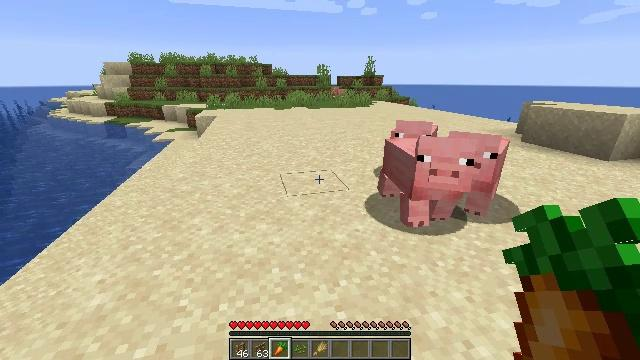pig: (382, 134, 472, 229), (475, 135, 513, 210), (389, 119, 441, 143)
